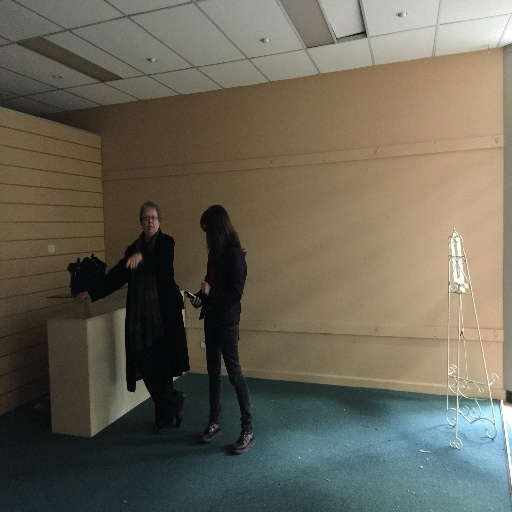hand: (125, 253, 140, 271), (74, 292, 91, 307), (190, 294, 202, 309), (200, 281, 210, 297)
